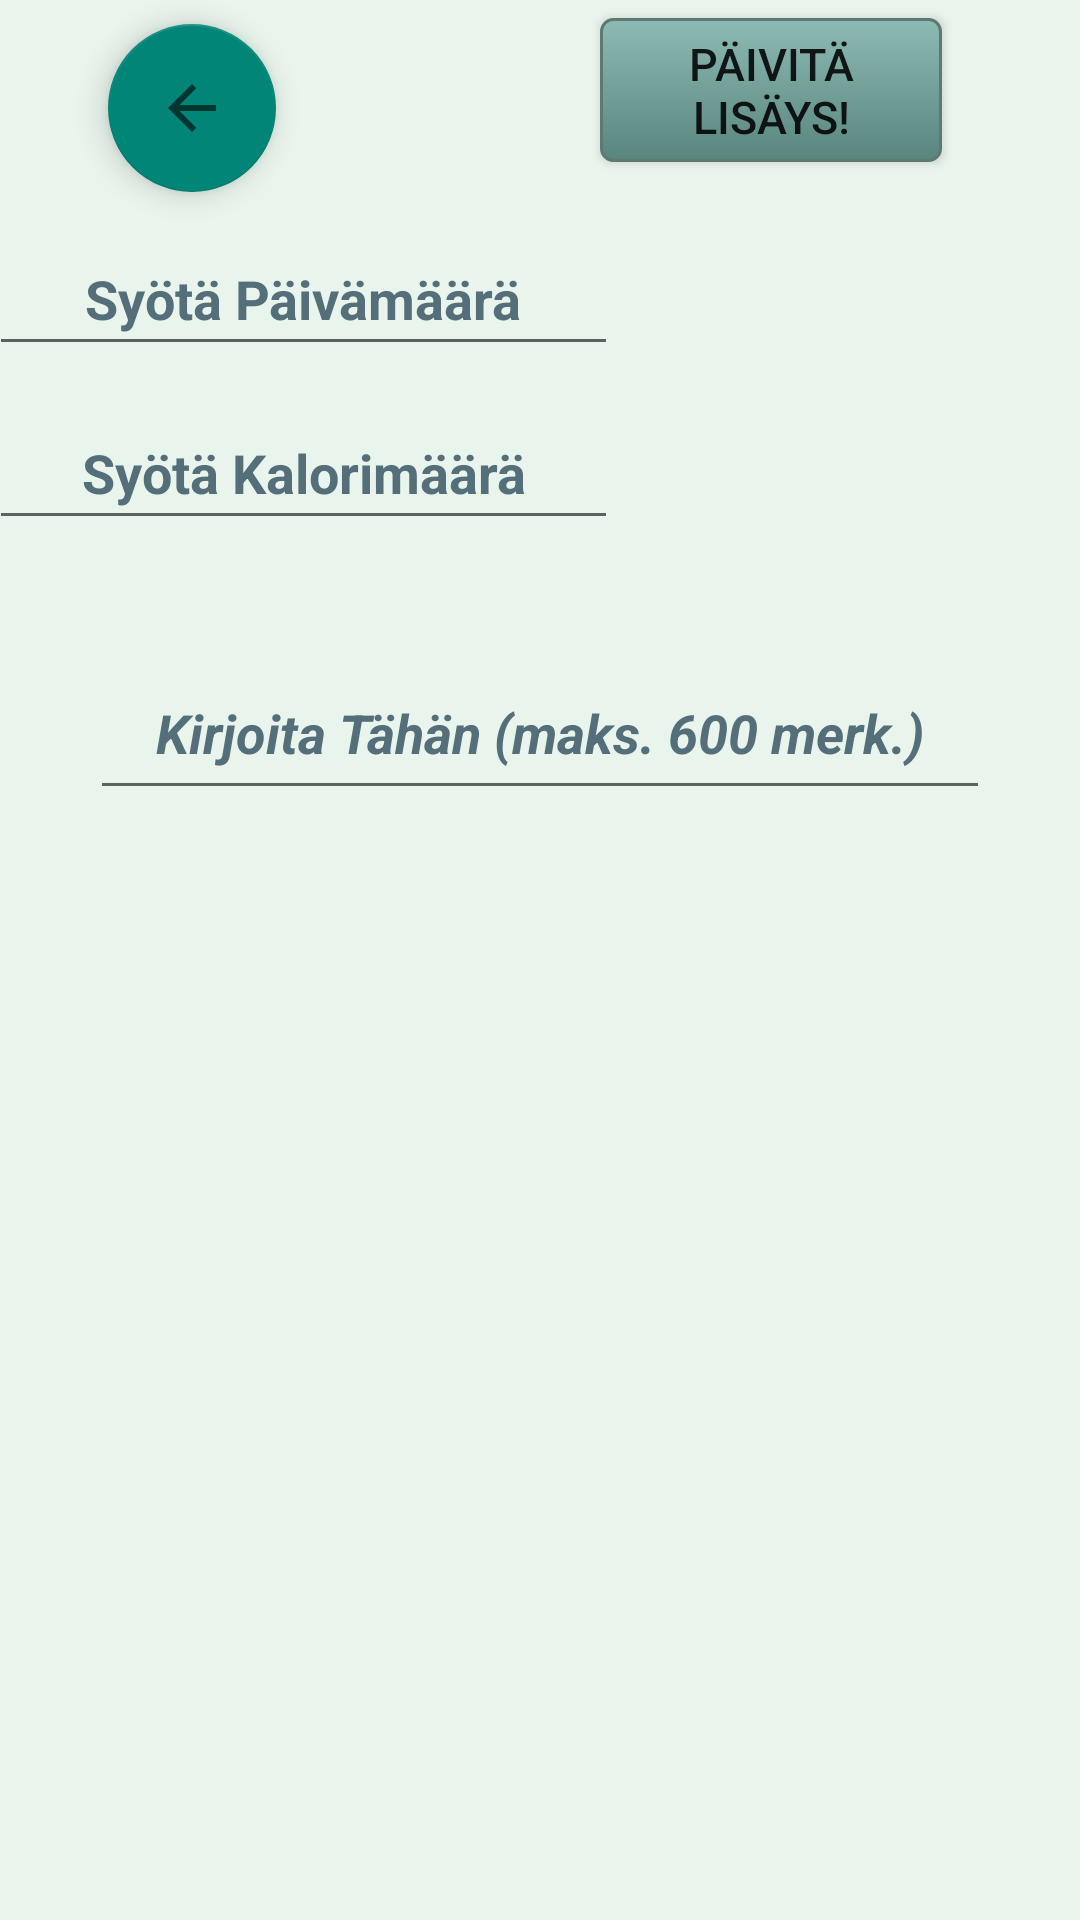

Named icons in this screenshot (1080×1920) and their bounding boxes, (x1, y1, x2, y2):
Nappi, joka vie takaisin päiväkirjaan: (108, 24, 276, 192)
